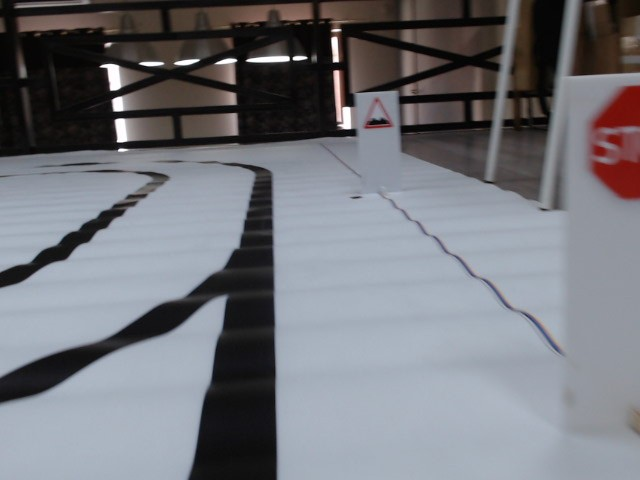Nerov: (363, 97, 394, 132)
